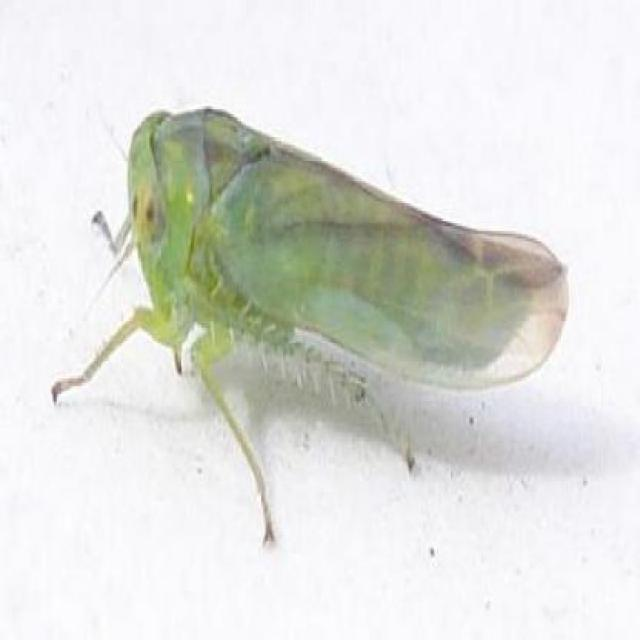green-leafhopper: (54, 112, 571, 547)
